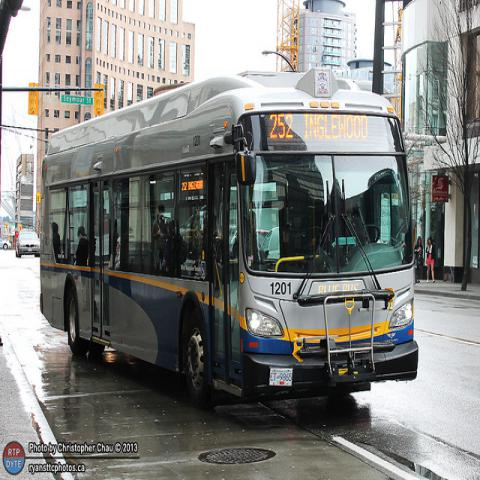bus: (38, 64, 418, 406)
car: (15, 229, 41, 258), (1, 238, 12, 249)
